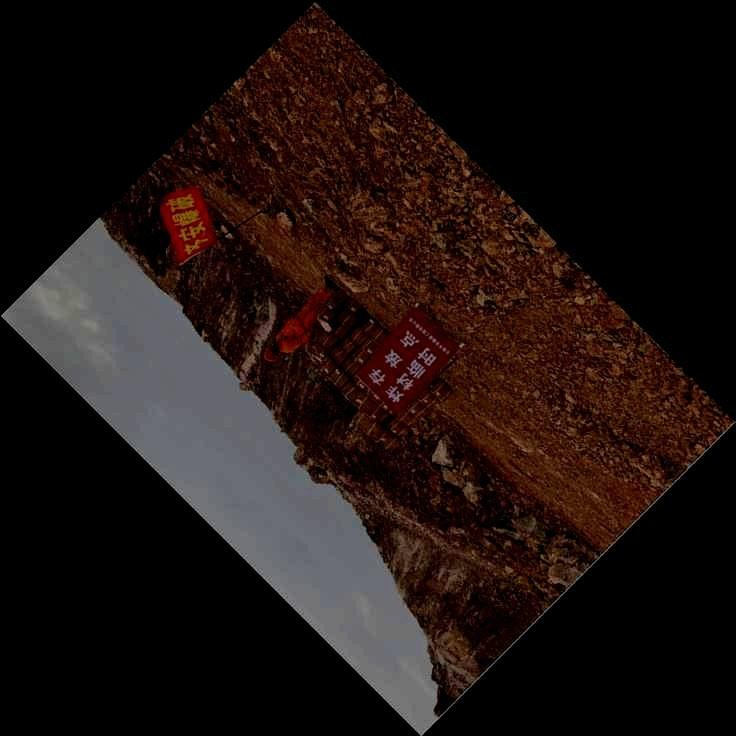helmet: (263, 342, 281, 362)
